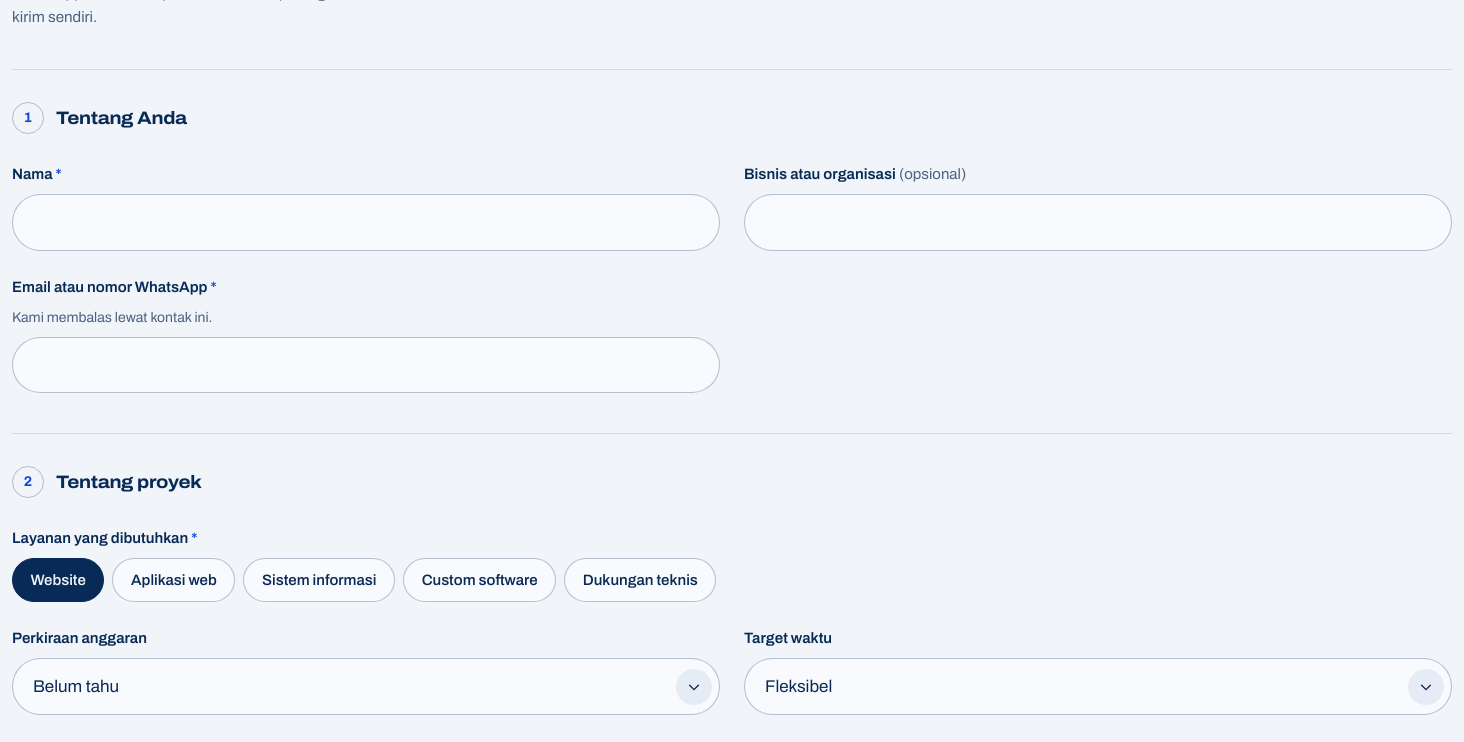
InquiryForm with the website channel › sends once, shows progress, and shows the real reference only after a 201
Type "Rina Wulandari" into the field labelled "Nama *" at point(366, 222), box top-left (12, 194), bottom-right (720, 251)
Type "rina@example.com" into the field labelled "Email atau nomor WhatsApp *" at point(366, 365), box top-left (12, 337), bottom-right (720, 393)
(page scrolled)
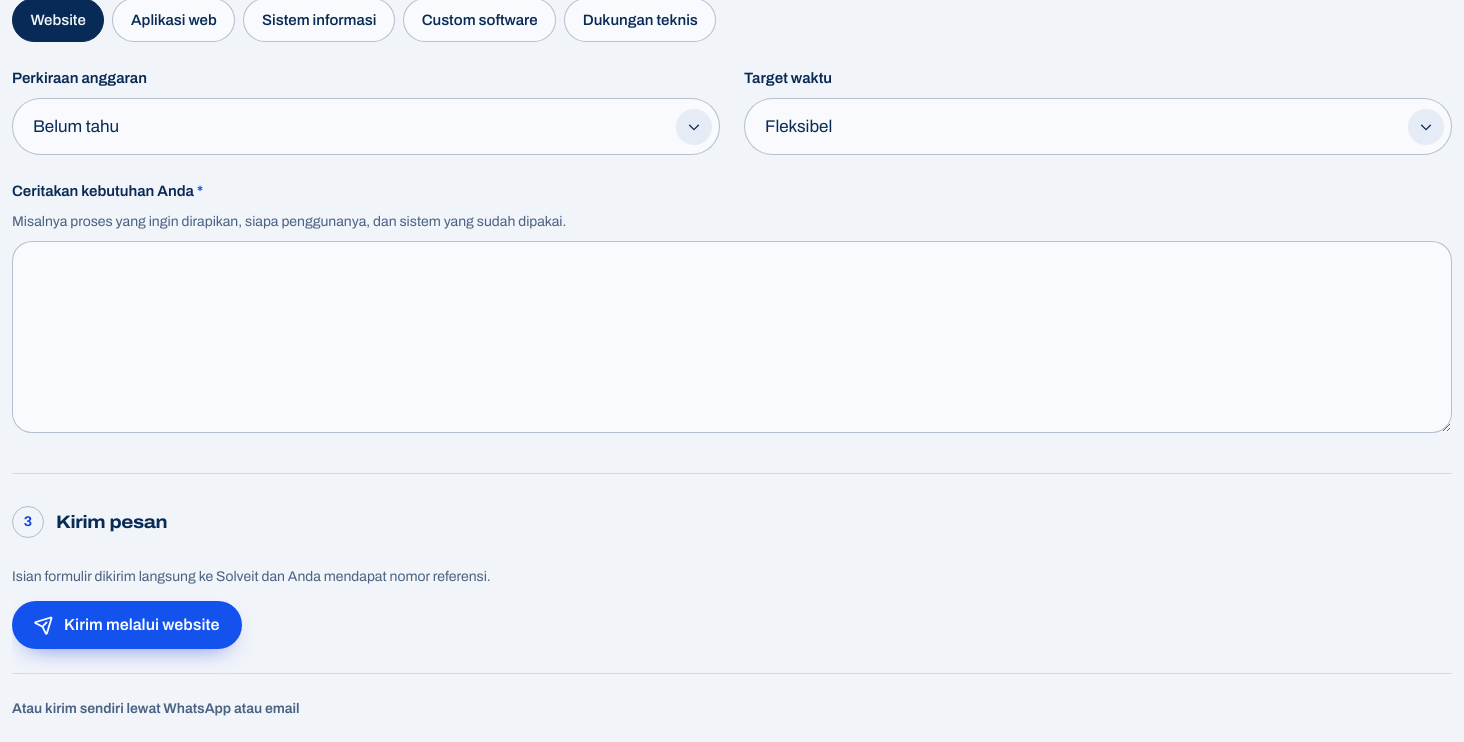
Type "Kami butuh website profil dengan katalog produk." into the text box labelled "Ceritakan kebutuhan Anda *" at point(732, 337), box top-left (12, 241), bottom-right (1452, 434)
Select "Rp10 sampai 50 juta" in the dropdown labelled "Perkiraan anggaran" at point(366, 127), box top-left (12, 98), bottom-right (720, 155)
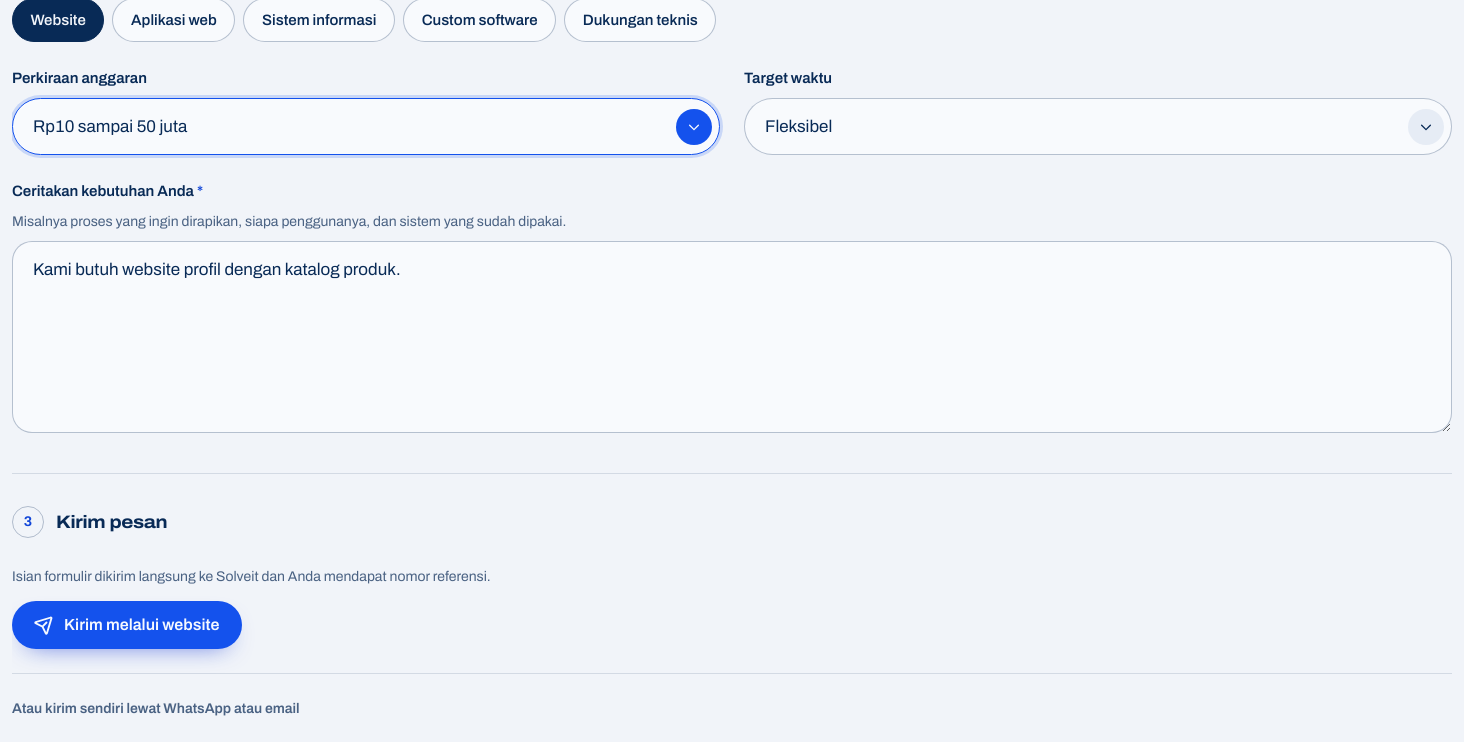
Click the button "Kirim melalui website" at point(127, 625), box top-left (12, 601), bottom-right (242, 649)
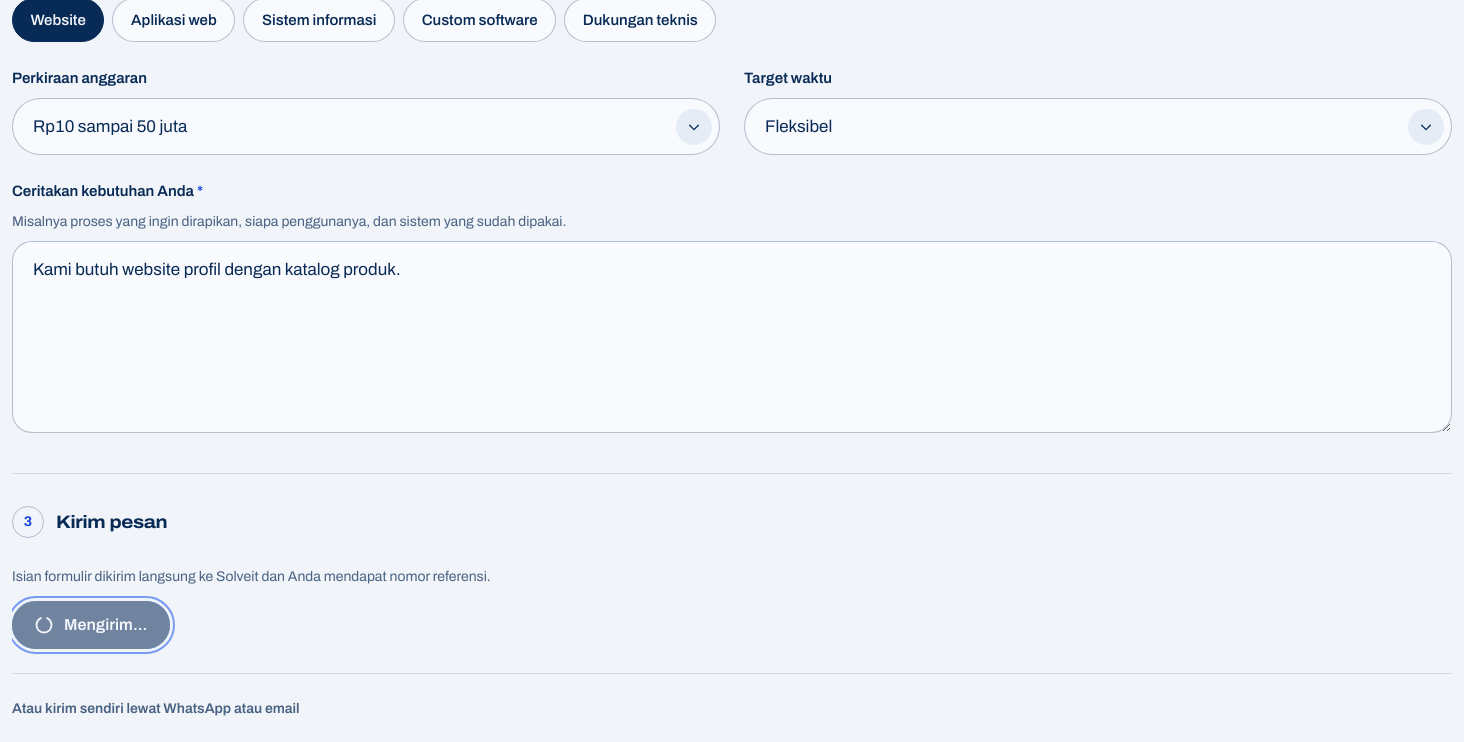
Expected: the button "Mengirim..." is shown
Click the button "Mengirim..." at point(91, 625), box top-left (12, 601), bottom-right (170, 649)
(page scrolled)
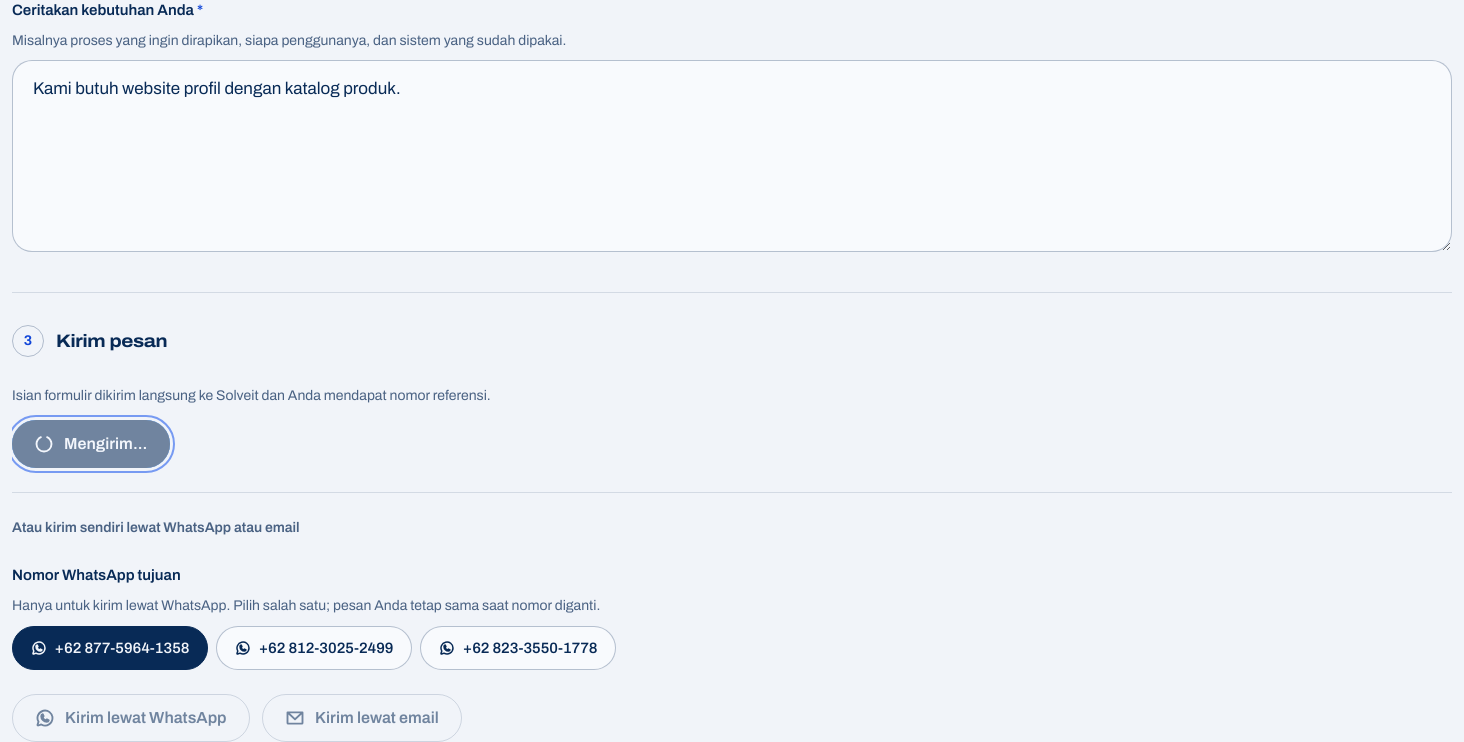
Click the button "Kirim lewat WhatsApp" at point(131, 718), box top-left (12, 694), bottom-right (250, 741)
(page scrolled)
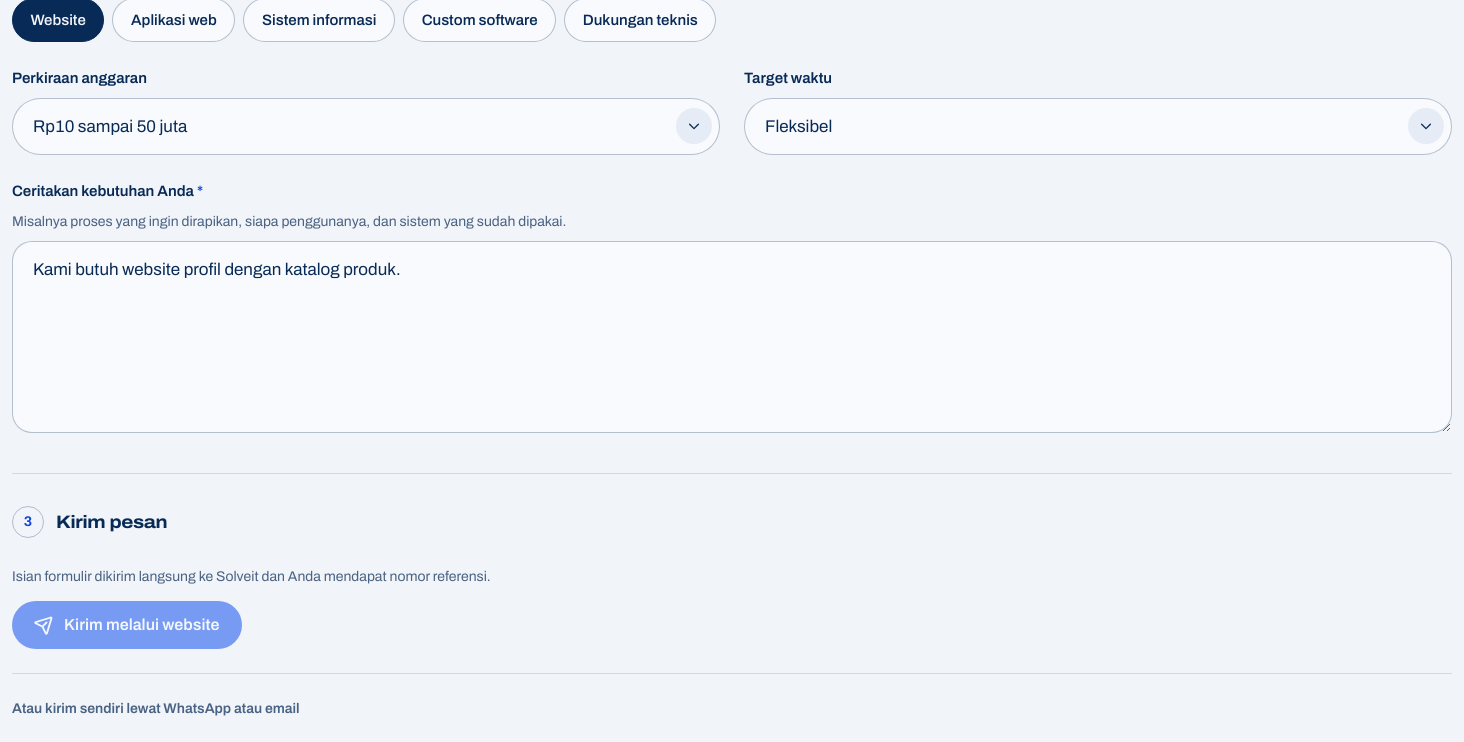
Expected: the button "Kirim melalui website" is disabled, top-left (12, 601), bottom-right (242, 649)
Type " Ditambah stok." into the text box labelled "Ceritakan kebutuhan Anda *" at point(732, 337), box top-left (12, 241), bottom-right (1452, 433)
(page scrolled)
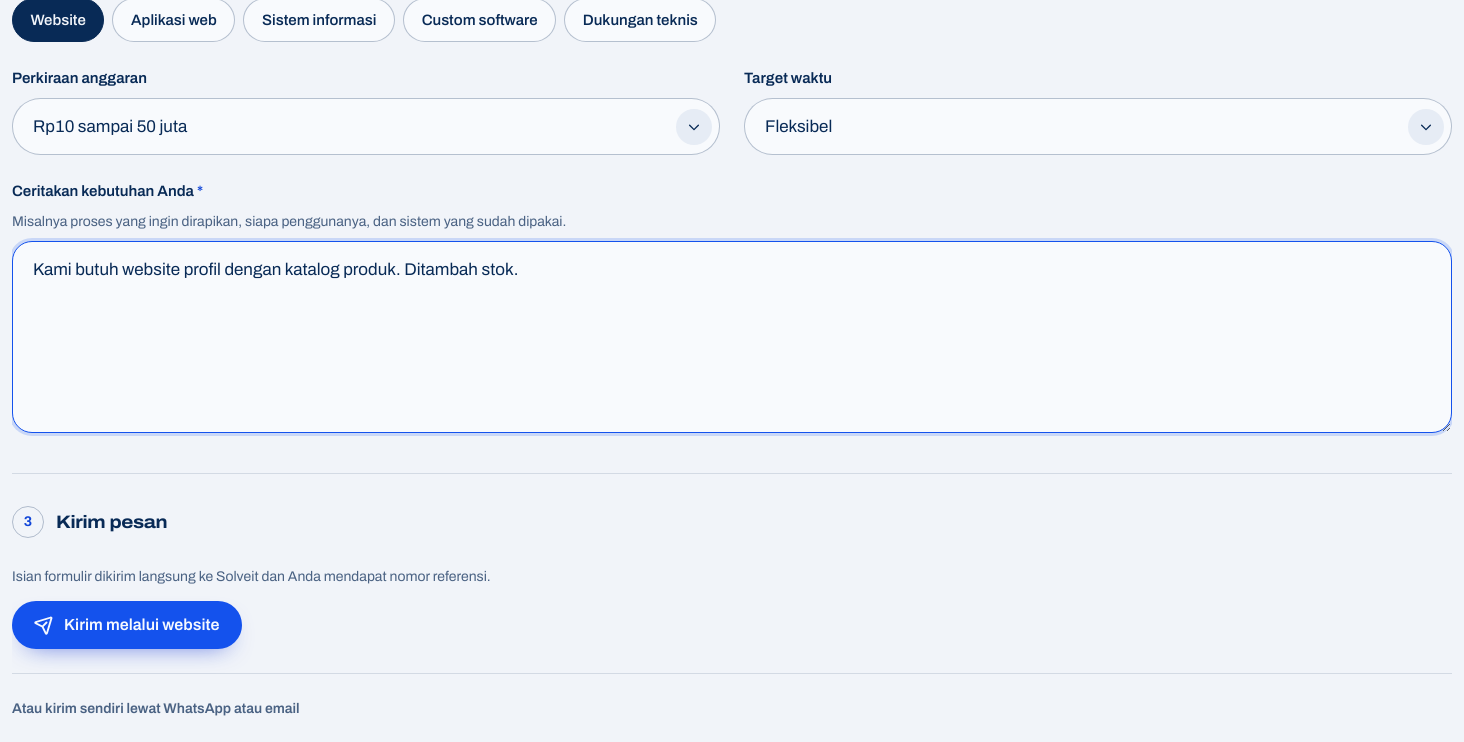
Expected: the button "Kirim melalui website" is enabled, top-left (12, 601), bottom-right (242, 649)
